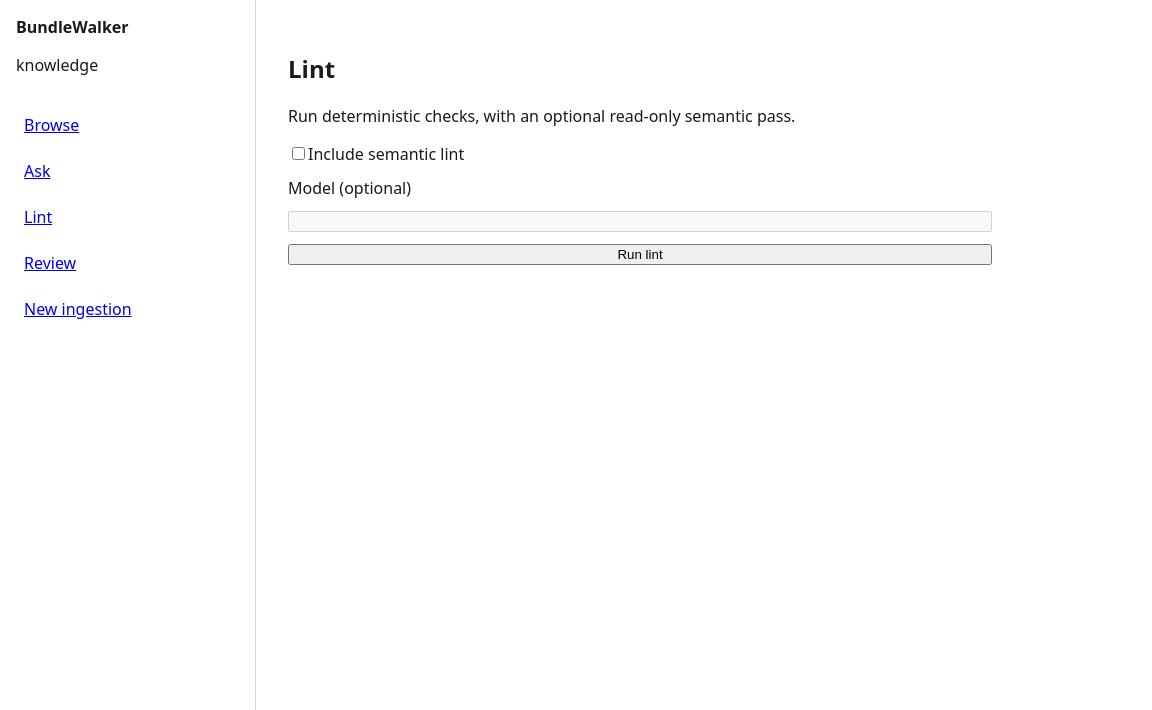
Test: announces completed operations and exposes non-color lint state
This screenshot has width=1152, height=710.
Click the button "Run lint".
click(640, 254)  # box [288, 244, 992, 265]
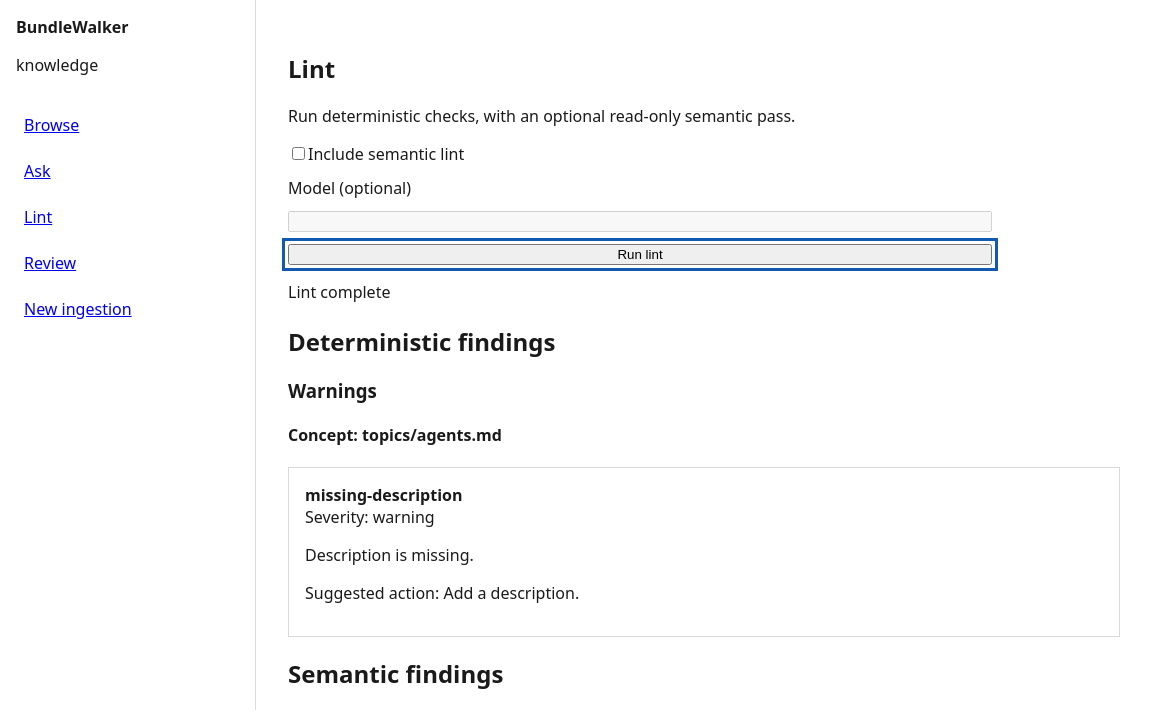
Expected: the message reads "Lint complete", [288, 281, 390, 303]
Expected: the text "Severity: warning" is shown, [305, 506, 435, 528]
Expected: the text "Suggested action: Add a description." is shown, [305, 582, 579, 604]
